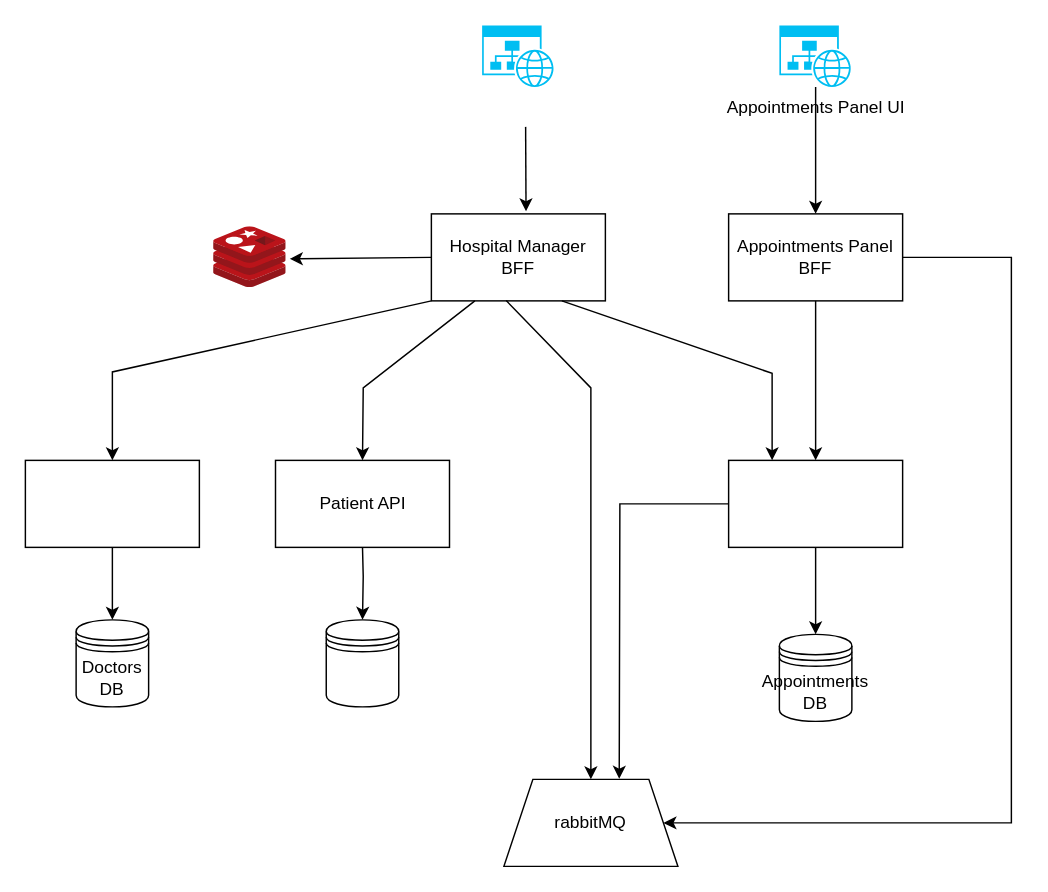
Some shapes in this 1048 by 892 pixel diagram are drawn without their labels. Here are the shapes that lost their labels. From the top down, the centre of each, then its label:
At pixel 517 55: "Hospital Manager UI".
At pixel 111 503: "Doctors API".
At pixel 815 503: "Appointments API".
At pixel 362 662: "Patient DB".
